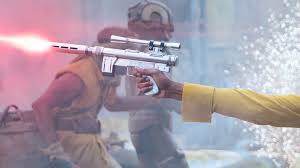gun: (53, 36, 182, 100)
